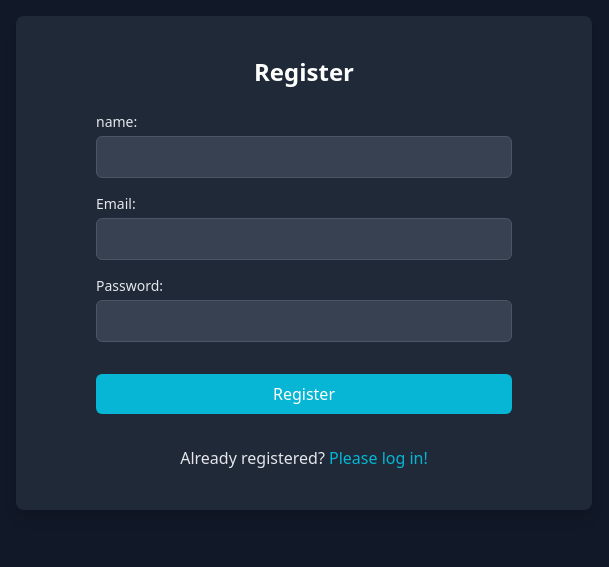
RegisterForm Component › shows an error message on failed registration
# Fill out the form
Step 1. Type "Test User" into the field labelled "name:" → (304, 157), box [96, 136, 512, 178]
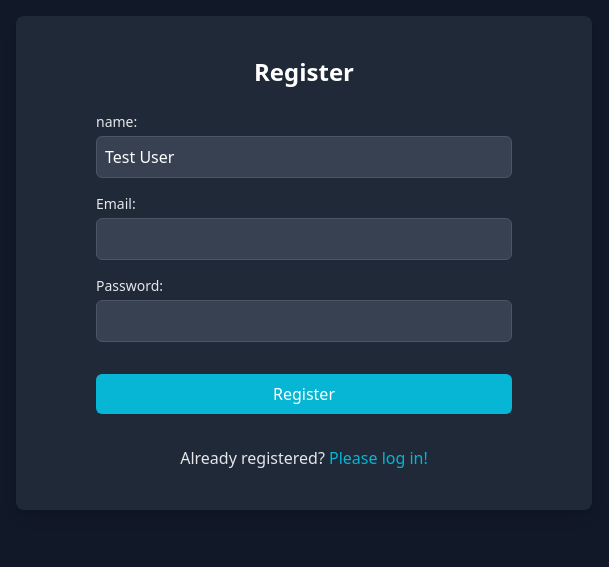
Step 2. Type "test@example.com" into the field labelled "Email:" → (304, 239), box [96, 218, 512, 260]
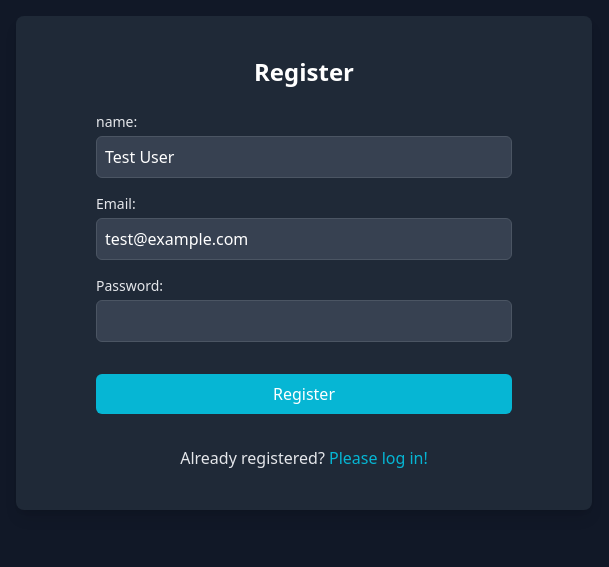
Step 3. Type "password123" into the password field labelled "Password:" → (304, 321), box [96, 300, 512, 342]
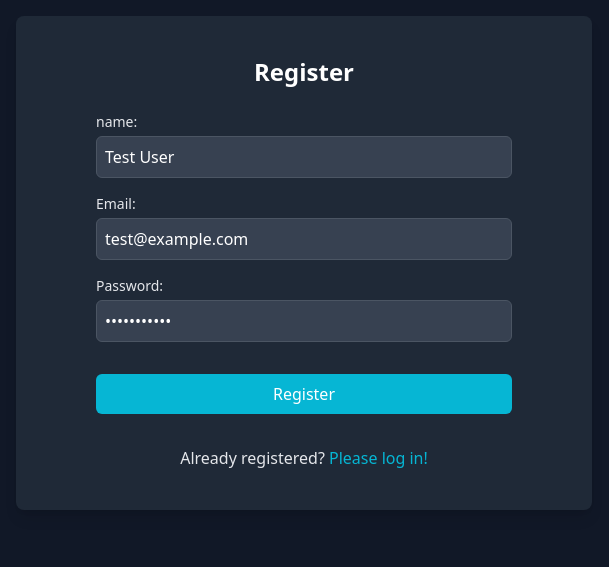
# Submit the form
Step 4. Click the button "Register" → (304, 394), box [96, 374, 512, 414]
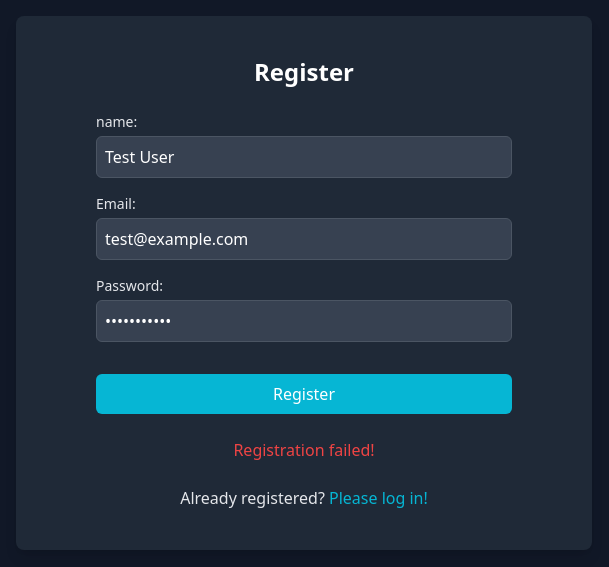
Expected: the text "Registration failed!" is shown, [233, 439, 375, 461]
